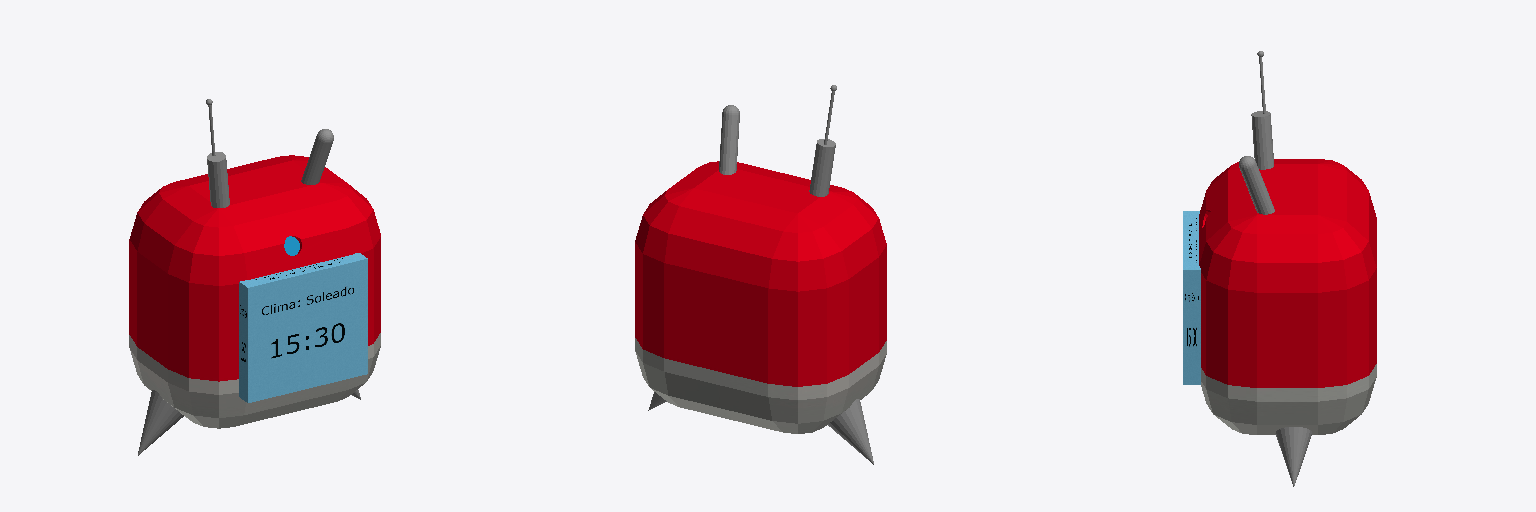
The picture shows the model from 3 angles: view 1: azimuth 30°, elevation 25°; view 2: azimuth 150°, elevation 25°; view 3: azimuth 270°, elevation 25°; orthographic projection.
Visible parts, largest first — view 1: ChamferBox001, Box001, Cone002, Cylinder003, Capsule001; view 2: ChamferBox001, Cone002, Capsule001, Cylinder003; view 3: ChamferBox001, Box001, Cone001, Cylinder003, Capsule001.
Boxes of the visible parts, <box> form: ChamferBox001: <box>129,155,380,428</box>; Box001: <box>239,253,367,402</box>; Cone002: <box>138,390,183,455</box>; Cylinder003: <box>207,152,229,207</box>; Capsule001: <box>301,129,333,184</box>; ChamferBox001: <box>635,161,886,433</box>; Cone002: <box>828,399,873,464</box>; Capsule001: <box>719,105,739,174</box>; Cylinder003: <box>809,139,835,196</box>; ChamferBox001: <box>1199,159,1376,434</box>; Box001: <box>1183,211,1200,384</box>; Cone001: <box>1275,427,1311,486</box>; Cylinder003: <box>1251,111,1273,169</box>; Capsule001: <box>1239,156,1274,214</box>.
Size of the model in its own units: 8.62 by 12.98 by 6.41.
Materials: 5 (3 with a texture image).